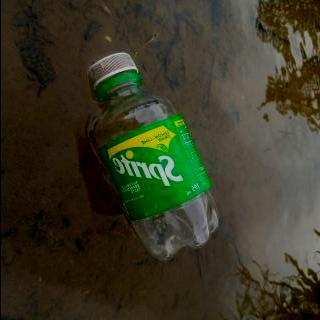bottle: (84, 52, 220, 261)
